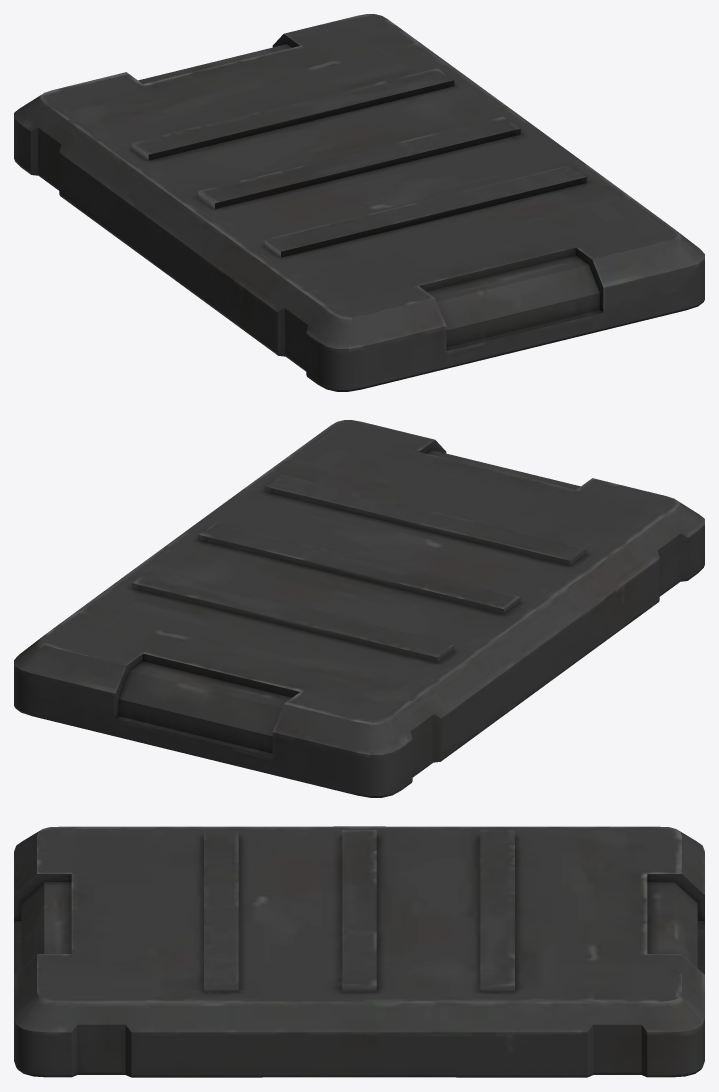
3 views of the same model, one above another, from view 1: azimuth 30°, elevation 25°; view 2: azimuth 150°, elevation 25°; view 3: azimuth 270°, elevation 25° (orthographic). The views are drawn at different scales.
Visible parts, largest first — view 1: body0_model0_lod0_mesh0; view 2: body0_model0_lod0_mesh0; view 3: body0_model0_lod0_mesh0.
Part boxes in pixels (x1=…): body0_model0_lod0_mesh0: x1=14, y1=14, x2=704, y2=391; body0_model0_lod0_mesh0: x1=14, y1=420, x2=704, y2=797; body0_model0_lod0_mesh0: x1=14, y1=826, x2=704, y2=1077.
Size of the model in its own units: 80.09 by 13.92 by 120.
1 material, 1 textured.
